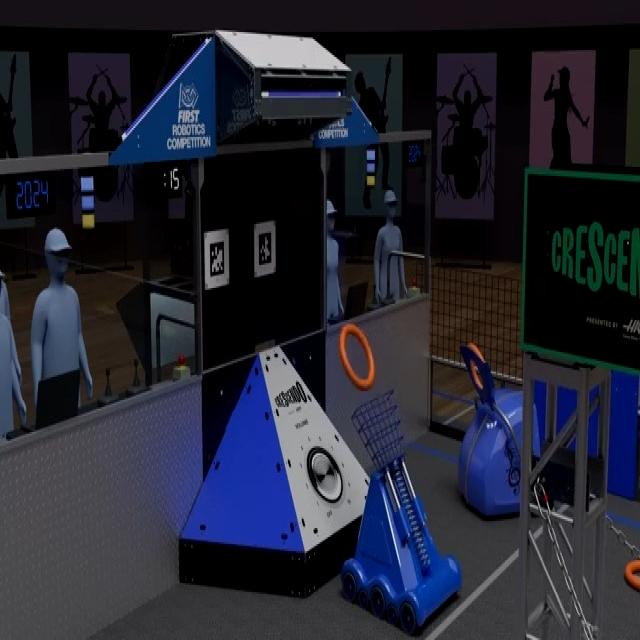notes: (338, 322, 377, 390), (624, 558, 640, 594)
